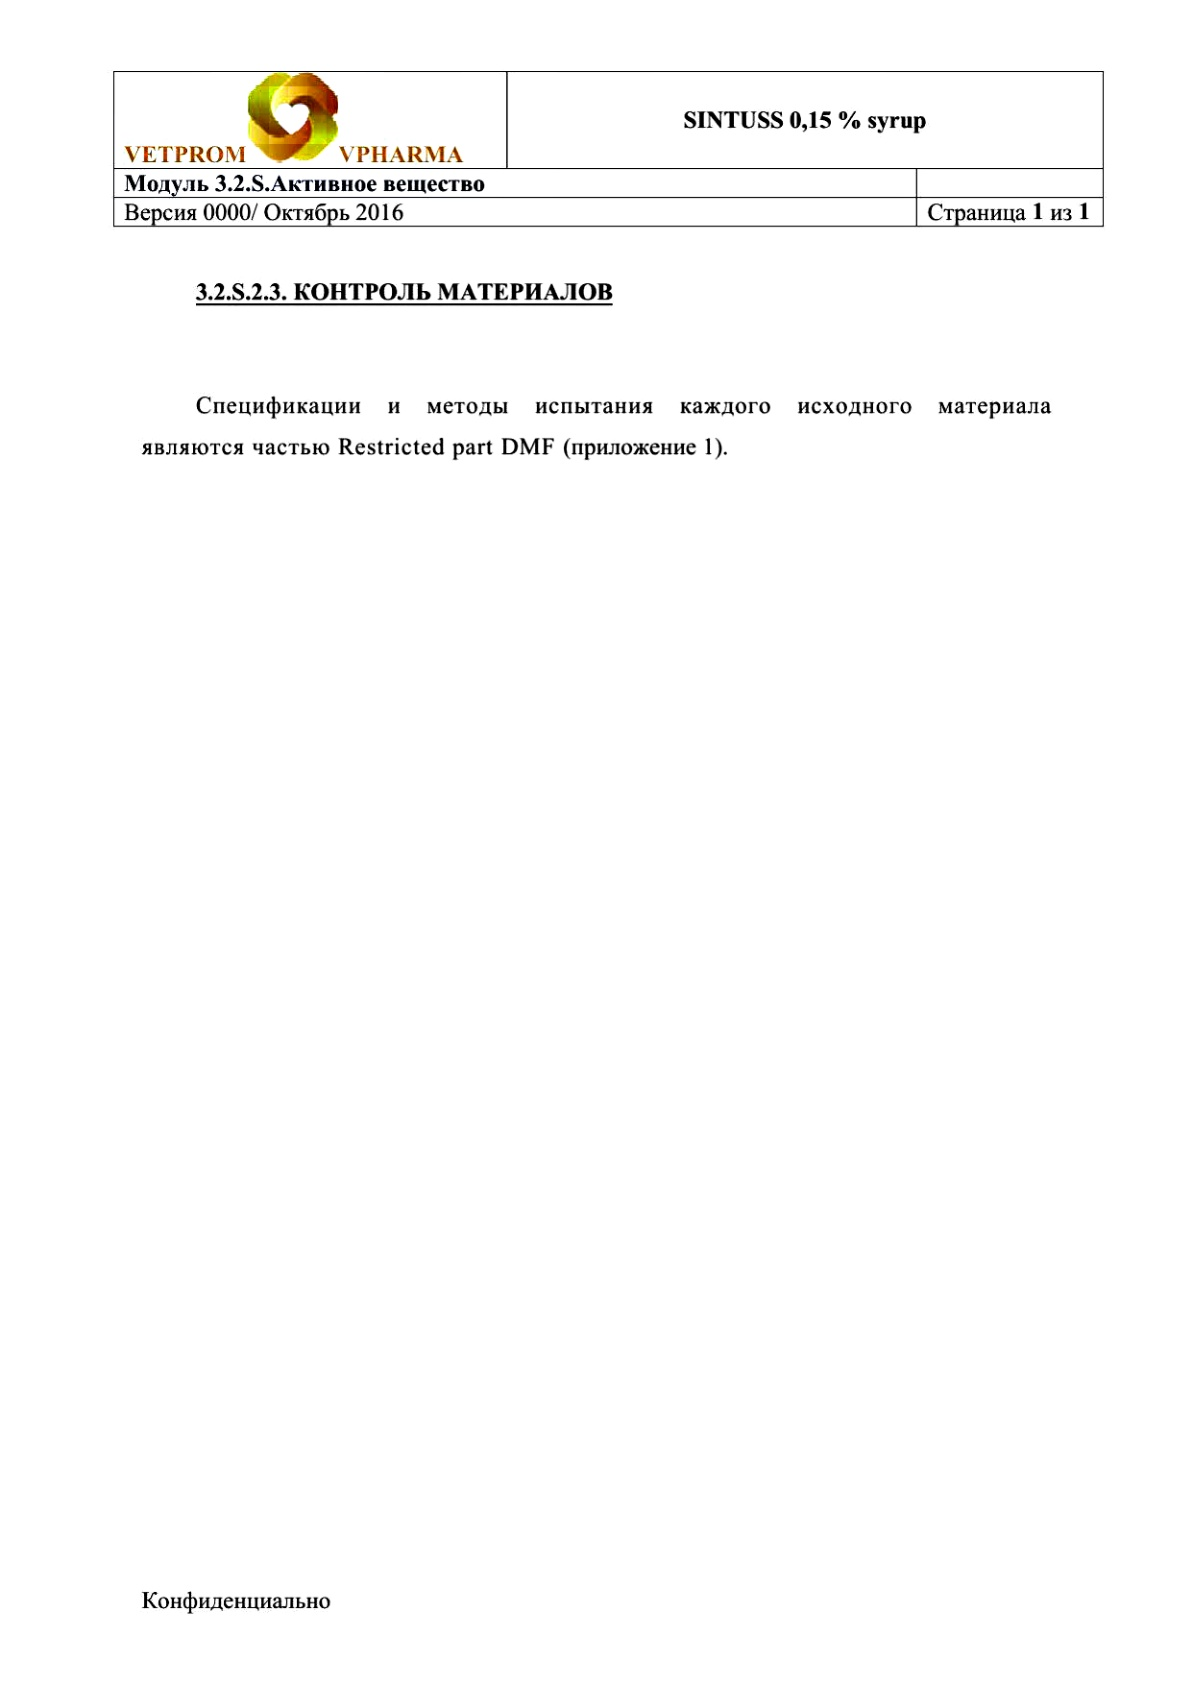merged_cells: (111, 70, 1105, 229)
